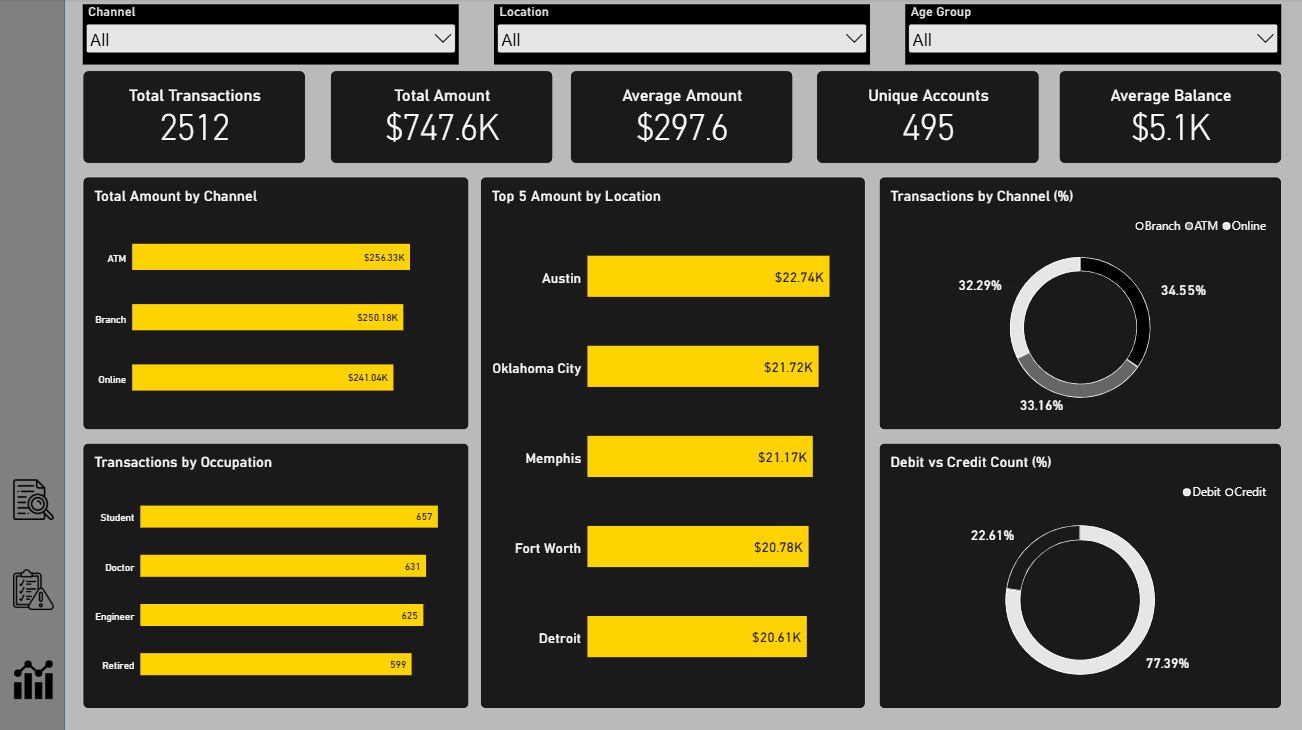

What the dashboard file says about the page in this screenshot:
{"tool":"powerbi","page":{"name":"Overview","canvas":[1920,1080],"ordinal":0},"visuals":[{"type":"shape","title":"Page Selector","box":[0,0,96.7,1080.6],"z":0},{"type":"cardVisual","fields":{"Data":["Measure.Total Users"]},"box":[123.7,107.1,328.5,137],"z":0,"group":"g1"},{"type":"image","box":[5.5,841.1,90,60],"z":0,"group":"g2"},{"type":"cardVisual","fields":{"Data":["Measure.Total Amount"]},"box":[487.3,107.1,328.5,137],"z":1000,"group":"g1"},{"type":"barChart","title":"Total Amount by Channel","fields":{"Category":["Dim_Channel.Channel"],"Y":["Measure.Total Amount"]},"box":[123.7,264.1,568.7,373],"z":1000},{"type":"image","box":[5.5,973.6,90,60],"z":1000,"group":"g2"},{"type":"group","id":"g1","title":"KPI","box":[123.7,107.1,1765.3,136.6],"z":2000},{"type":"cardVisual","fields":{"Data":["Measure.Average Amount"]},"box":[842.1,107.1,328.5,137],"z":2000,"group":"g1"},{"type":"image","box":[5.5,708.6,90,60],"z":2000,"group":"g2"},{"type":"cardVisual","fields":{"Data":["Measure.Unique Accounts"]},"box":[1203.4,107.1,328.5,137],"z":3000,"group":"g1"},{"type":"barChart","title":"Top 5 Amount by Location","fields":{"Category":["Dim_Location.Location"],"Y":["Measure.Total Amount"]},"box":[709.1,264.1,566.9,782.9],"z":3000},{"type":"cardVisual","fields":{"Data":["Measure.Average Balance"]},"box":[1560.4,107.1,328.5,137],"z":4000,"group":"g1"},{"type":"barChart","title":"Transactions by Occupation","fields":{"Category":["Transactions.CustomerOccupation"],"Y":["Measure.Total Transactions"]},"box":[123.7,655.5,568.7,391.5],"z":4000},{"type":"group","id":"g2","title":"Navigation buttons","box":[5.5,708.6,90,325],"z":5000},{"type":"donutChart","title":"Transactions by Channel (%)","fields":{"Category":["Dim_Channel.Channel"],"Y":["Measure.Total Transactions"]},"box":[1296.3,264.1,592.7,373],"z":6000},{"type":"donutChart","title":"Debit vs Credit Count (%)","fields":{"Category":["Transactions.TransactionType"],"Y":["Measure.Total Transactions"]},"box":[1296.3,655.5,592.7,391.5],"z":7000},{"type":"slicer","fields":{"Values":["Dim_Channel.Channel"]},"box":[123.7,9.2,554,88.6],"z":8000,"group":"g3"},{"type":"slicer","fields":{"Values":["Dim_Location.Location"]},"box":[729.4,9.2,554,88.6],"z":9000,"group":"g3"},{"type":"slicer","fields":{"Values":["Transactions.Age Group"]},"box":[1335,9.2,554,88.6],"z":10000,"group":"g3"},{"type":"group","id":"g3","title":"Slicers","box":[123.7,9.2,1765.3,88.6],"z":10001}]}

Visuals, with their boxes on the page's 1920x1080 design canvas (x1, y1, x2, y2). These are canvas units, not pixel positions in the 1302x730 screenshot, which may show the page scaled, cropped or inside an application window:
"Page Selector" shape: select_region(0, 0, 97, 1081)
cardVisual - Measure.Total Users: select_region(124, 107, 452, 244)
image: select_region(6, 841, 96, 901)
cardVisual - Measure.Total Amount: select_region(487, 107, 816, 244)
"Total Amount by Channel" barChart: select_region(124, 264, 692, 637)
image: select_region(6, 974, 96, 1034)
"KPI" group: select_region(124, 107, 1889, 244)
cardVisual - Measure.Average Amount: select_region(842, 107, 1171, 244)
image: select_region(6, 709, 96, 769)
cardVisual - Measure.Unique Accounts: select_region(1203, 107, 1532, 244)
"Top 5 Amount by Location" barChart: select_region(709, 264, 1276, 1047)
cardVisual - Measure.Average Balance: select_region(1560, 107, 1889, 244)
"Transactions by Occupation" barChart: select_region(124, 656, 692, 1047)
"Navigation buttons" group: select_region(6, 709, 96, 1034)
"Transactions by Channel (%)" donutChart: select_region(1296, 264, 1889, 637)
"Debit vs Credit Count (%)" donutChart: select_region(1296, 656, 1889, 1047)
slicer - Dim_Channel.Channel: select_region(124, 9, 678, 98)
slicer - Dim_Location.Location: select_region(729, 9, 1283, 98)
slicer - Transactions.Age Group: select_region(1335, 9, 1889, 98)
"Slicers" group: select_region(124, 9, 1889, 98)
